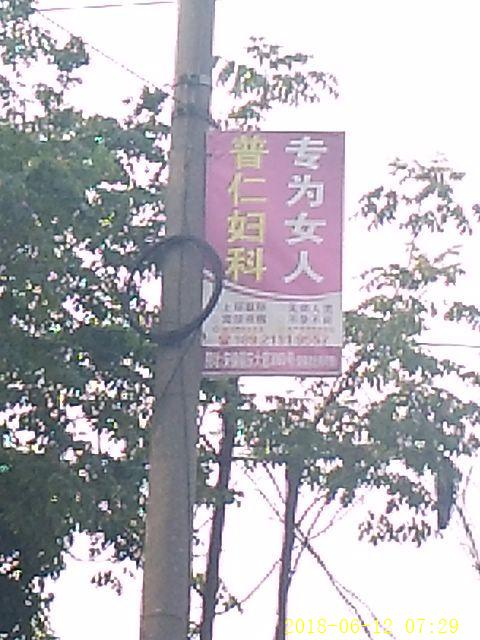non_traffic_sign: (202, 130, 342, 377)
